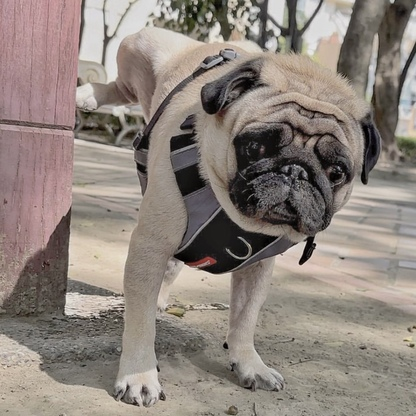Pug: (74, 22, 384, 410)
